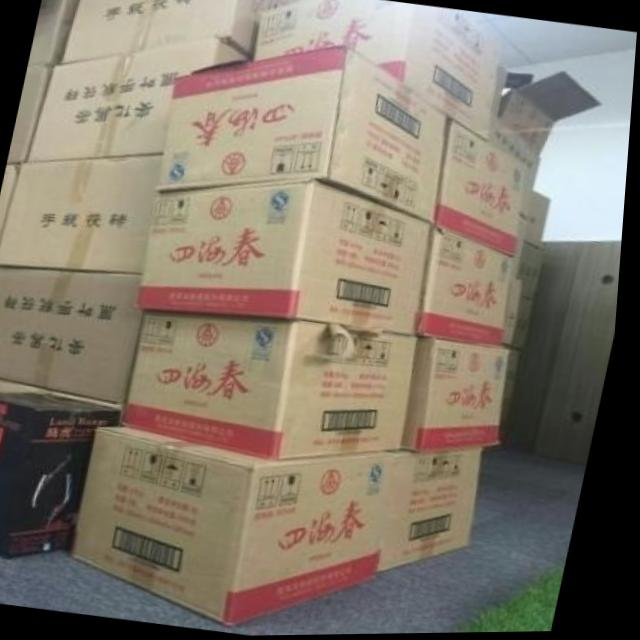box: (80, 428, 403, 628), (160, 48, 451, 228), (142, 179, 439, 335), (130, 314, 421, 461), (256, 0, 503, 145), (27, 38, 258, 160), (0, 391, 129, 561), (0, 266, 147, 404), (0, 154, 165, 276), (58, 0, 309, 62), (409, 337, 518, 458), (439, 121, 531, 259), (391, 451, 490, 571), (423, 230, 517, 349), (498, 74, 605, 155), (9, 65, 53, 164), (495, 117, 545, 191), (29, 0, 76, 64), (0, 161, 26, 249), (526, 191, 555, 248), (523, 243, 548, 300), (518, 301, 538, 350)
